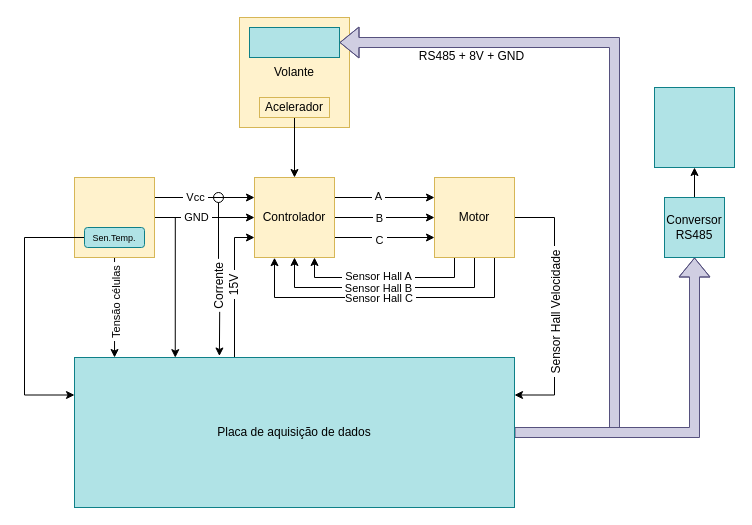
Image size: 752x525. Some labels were removed from this diagram. The shapes that lost their labels are listed below. From the top down, each one's box as (x1, y1, x2, y2) in pixels, then its label:
(248, 26, 340, 58): Display
(654, 86, 734, 168): Módulo de Rádio
(74, 176, 154, 258): Banco de baterias . .
